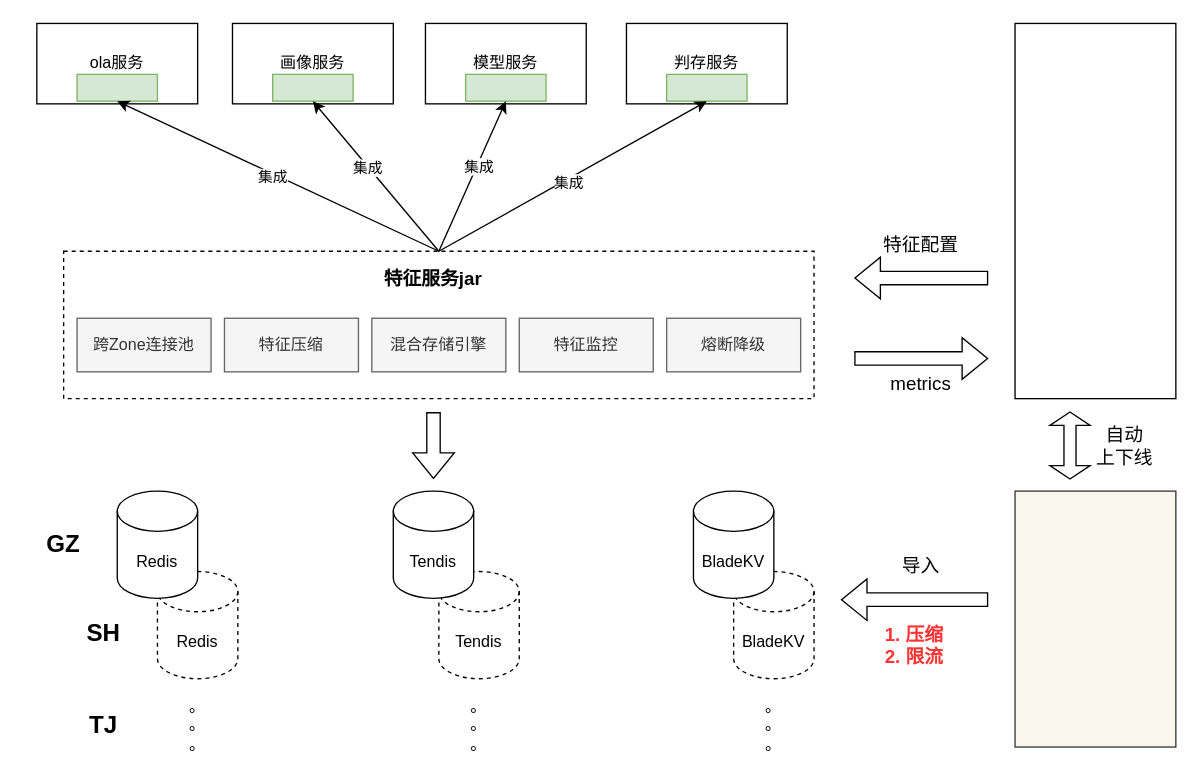
The diagram is 1199 pixels wide and 777 high, and some of its shapes have lost their labels. The box of each missing label's shape, as (x1, y1, x2, y2) in pixels:
元数据: (1014, 22, 1176, 399)
特征接入: (1014, 490, 1176, 747)
